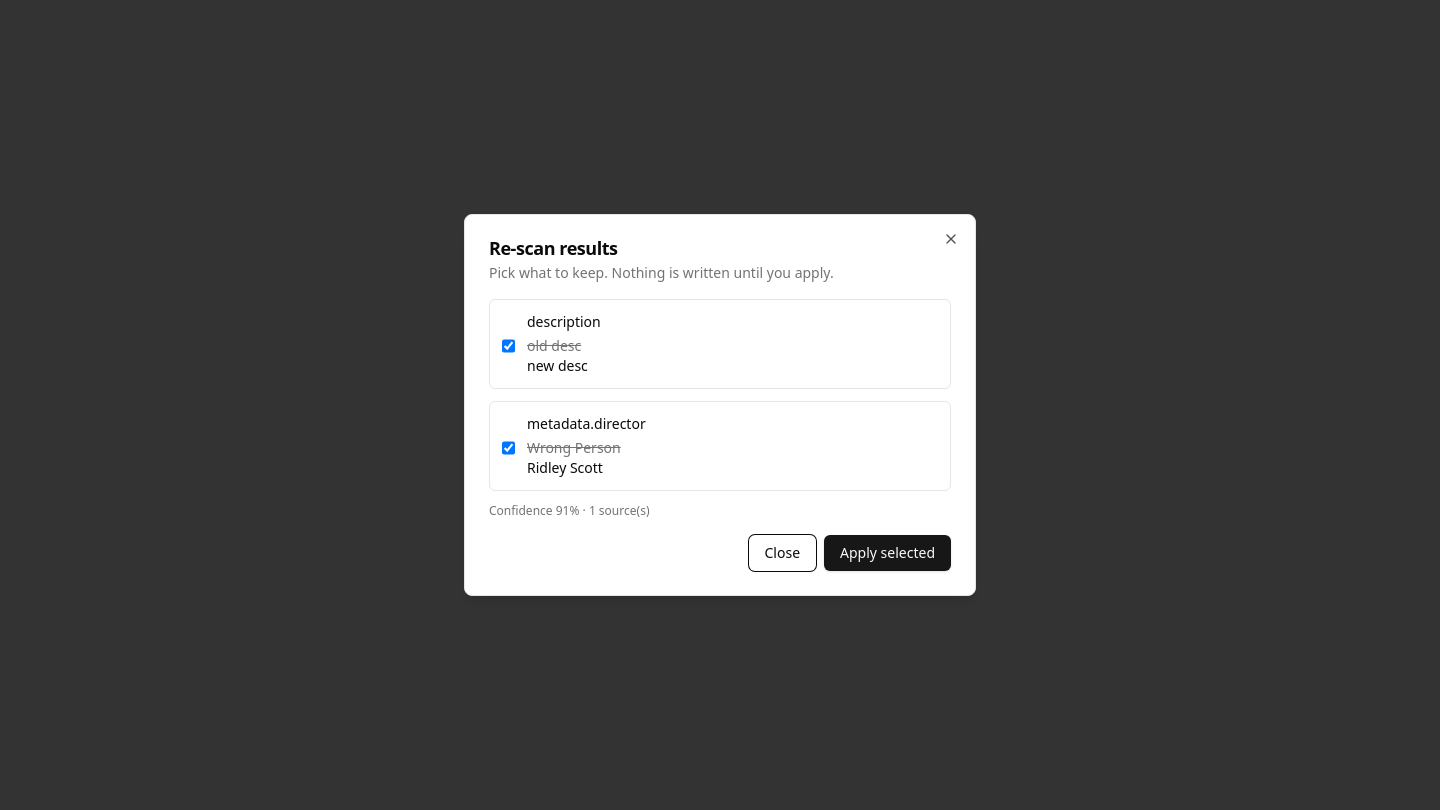
Scenario: RescanDiff › surfaces an expired proposal error telling the admin to re-scan
Click the button "Apply selected".
click(888, 553)  # box [824, 535, 951, 571]
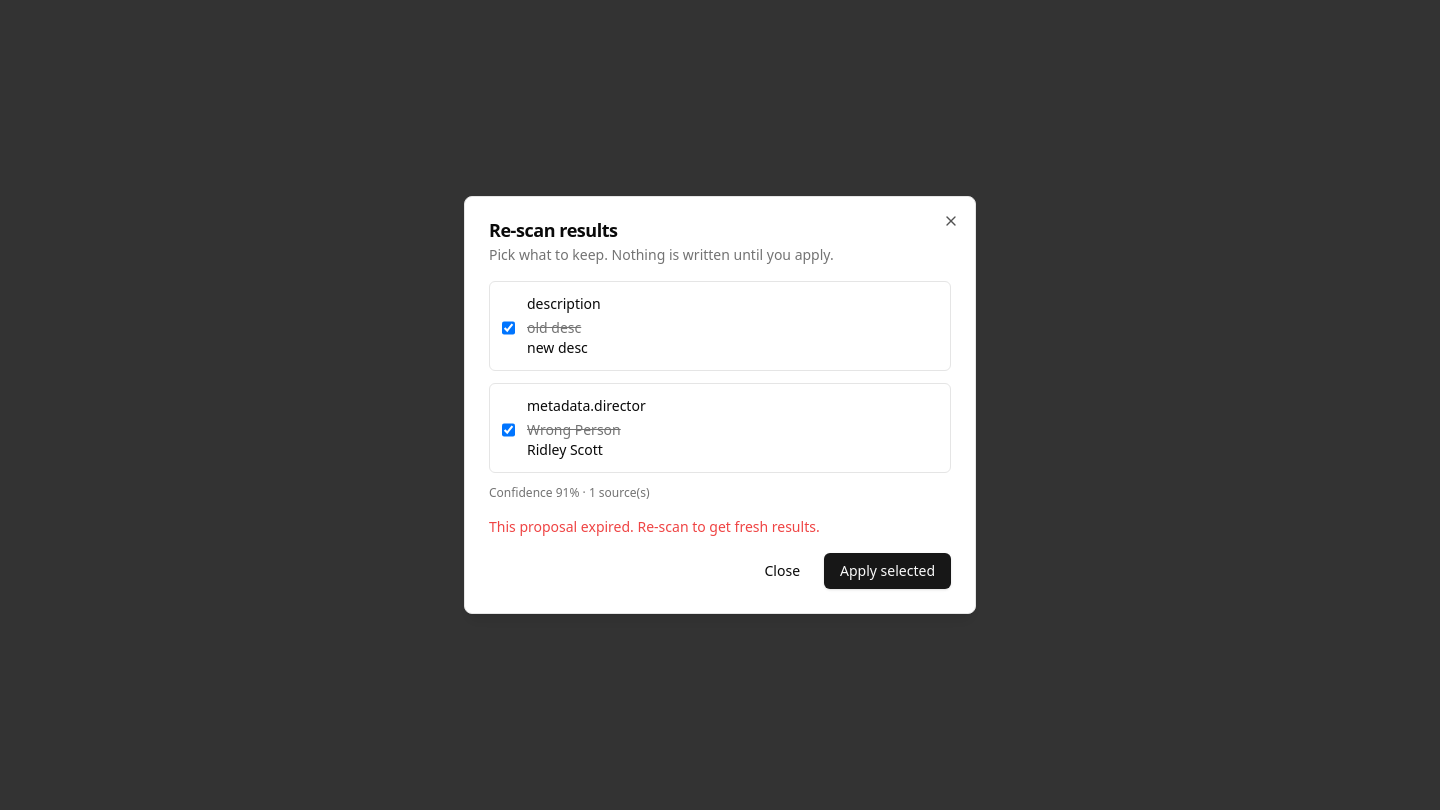
Expected: the message shows "Re-scan", [489, 517, 820, 536]
